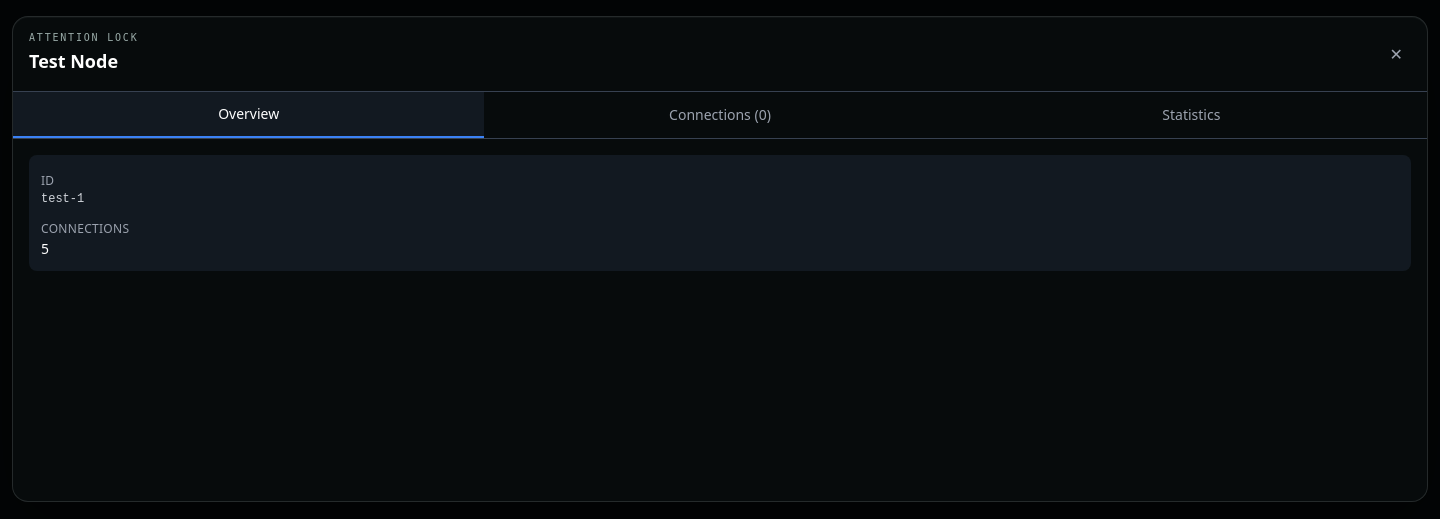
Test: Inspector › switches between tabs
Expected: the tab "Overview" is shown, [13,92,484,138]
// Click Statistics tab
Click the tab "Statistics": (1191,115) [956,92,1427,138]
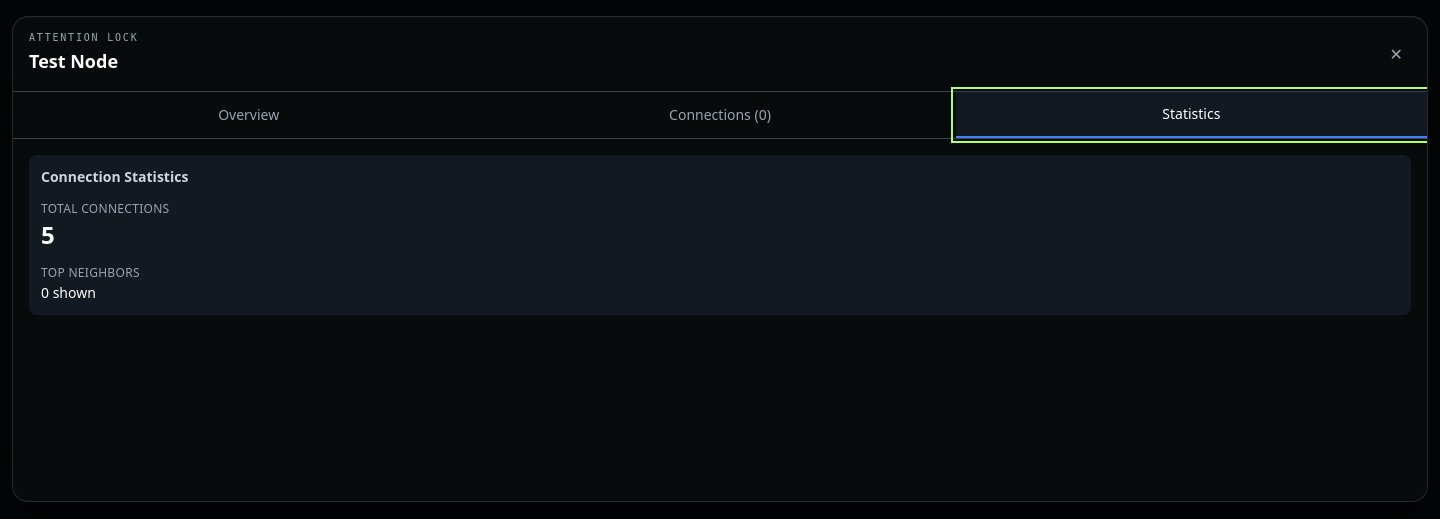
Expected: the heading "Connection Statistics" is shown, [41,167,188,186]
